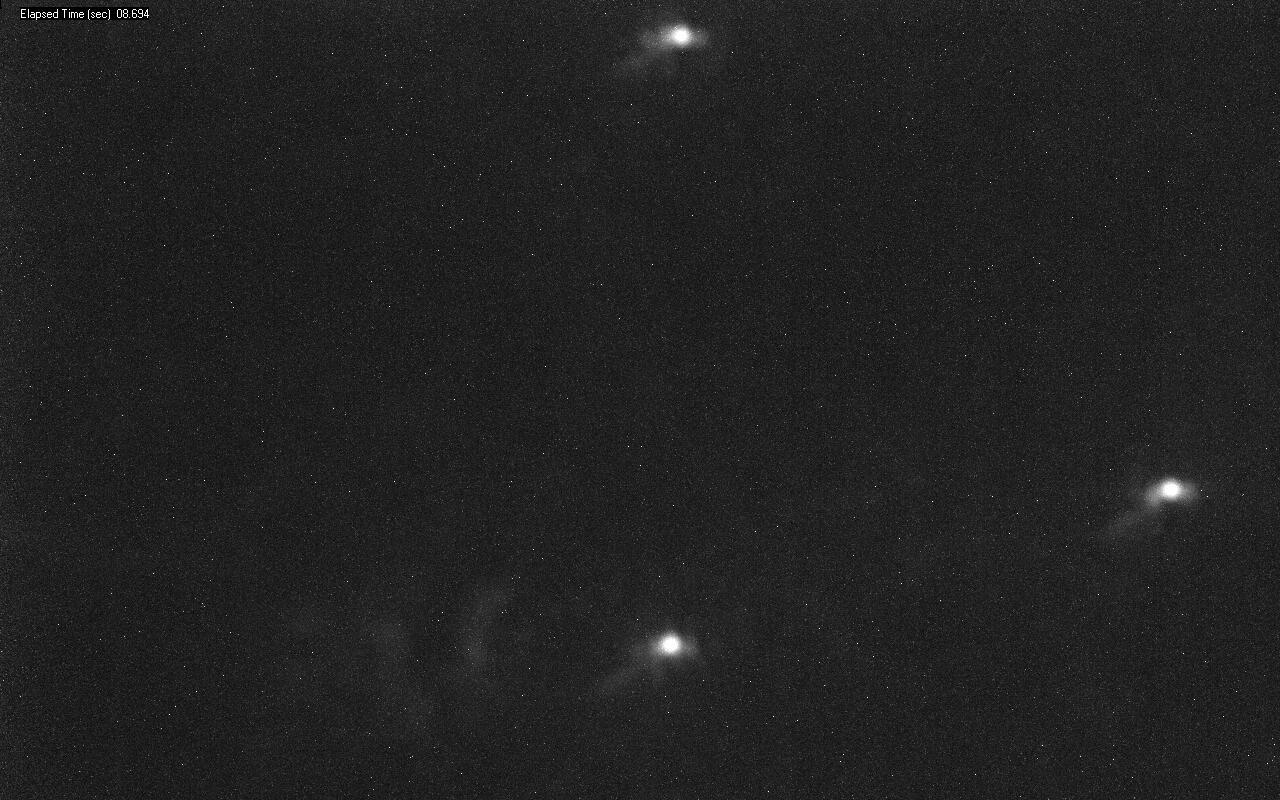Bead: (1144, 478, 1192, 508), (654, 632, 690, 658), (663, 25, 694, 50)
